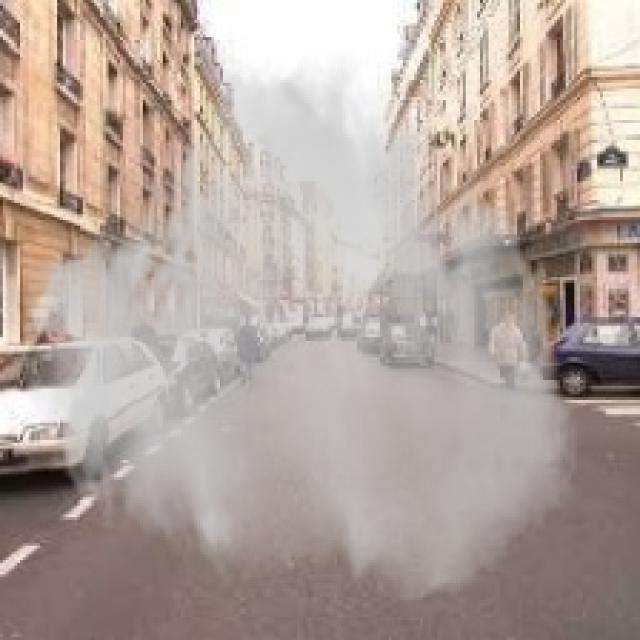smoke: (17, 37, 583, 606)
